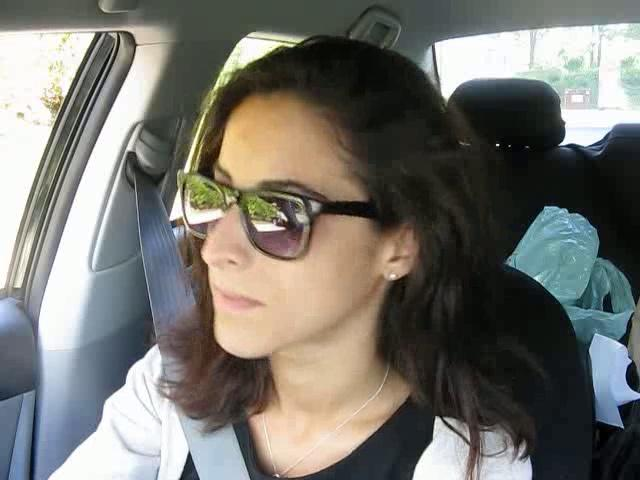no_yawn: (194, 273, 281, 327)
